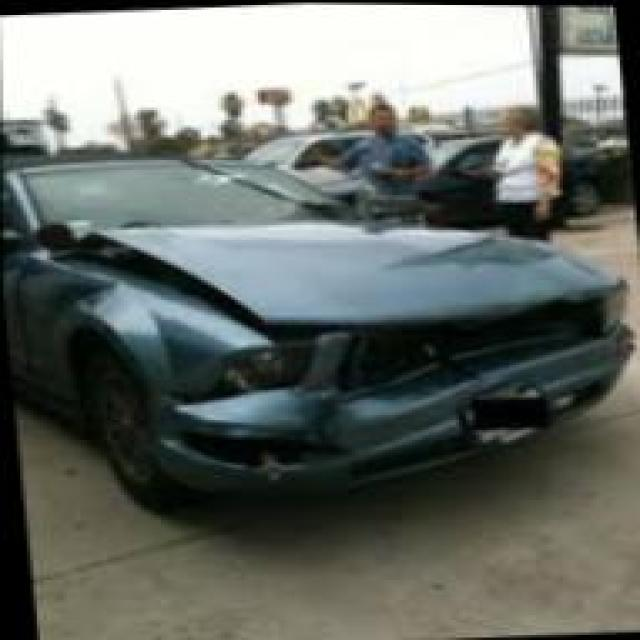replaceable: (125, 253, 618, 484)
